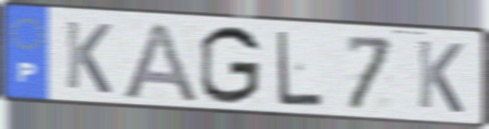7: (346, 34, 396, 111)
A: (116, 20, 202, 105)
G: (197, 23, 263, 107)
K: (414, 37, 466, 117), (62, 18, 114, 97)
L: (274, 28, 326, 109)
